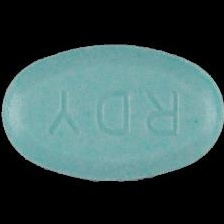42549-498: (0, 0, 224, 224)
